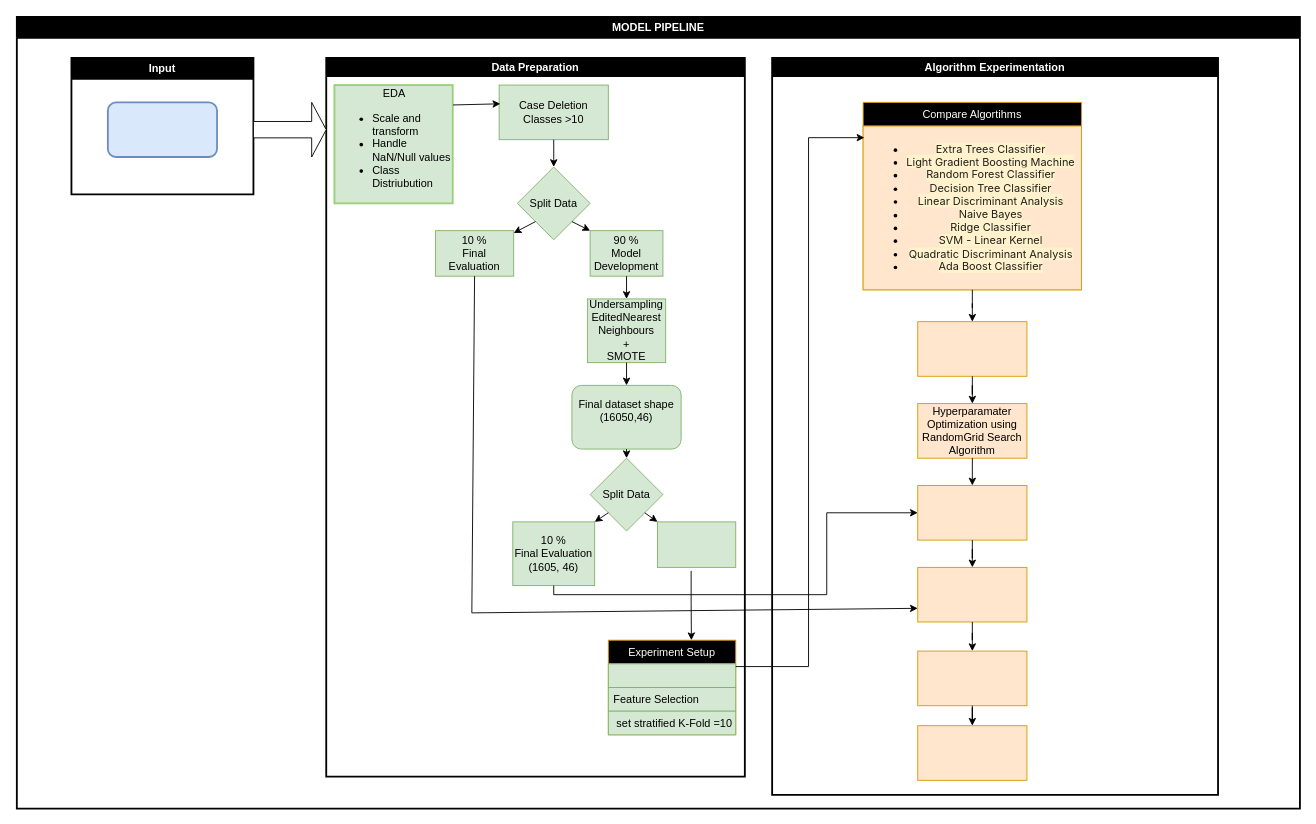
The diagram is 1316 pixels wide and 824 high, and some of its shapes have lost their labels. Each missing label, with the centre of its shape:
90 % Train-Test (14445, 46): point 696,544
Evaluate Performance analizing different metrics: point 972,512
Feature Engineering: point 671,675
Final training iteration with all data: point 972,594
Final Validation: point 972,678
Save and Deploy: point 972,752
Select Best Performance with Stratified K- fold: point 972,348
TABULAR DATASET SHAPE(2260, 46): point 161,129
